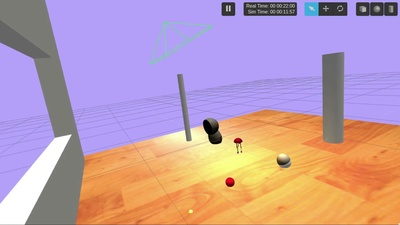mira_robot: (277, 154, 291, 168)
